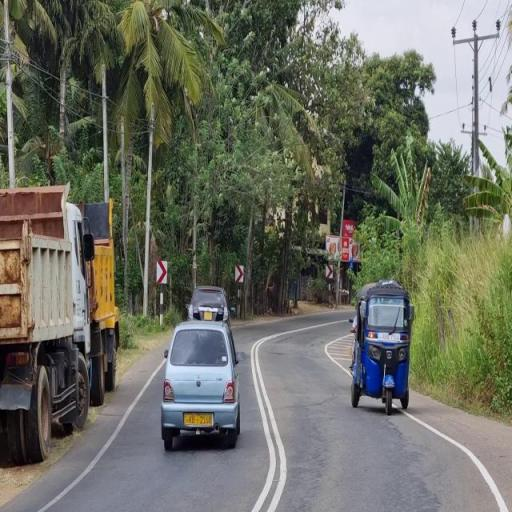double_white_line: (246, 330, 292, 512)
